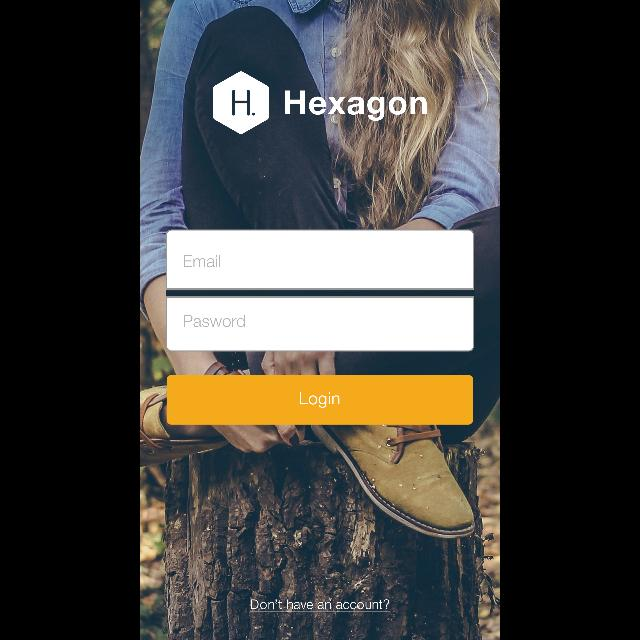backgroundimage: (140, 1, 500, 640)
image: (213, 72, 269, 134)
input: (166, 230, 474, 290), (166, 296, 474, 352)
text: (285, 90, 427, 122), (250, 600, 390, 612), (183, 314, 244, 328), (183, 256, 220, 268)
textbutton: (167, 375, 473, 425)
